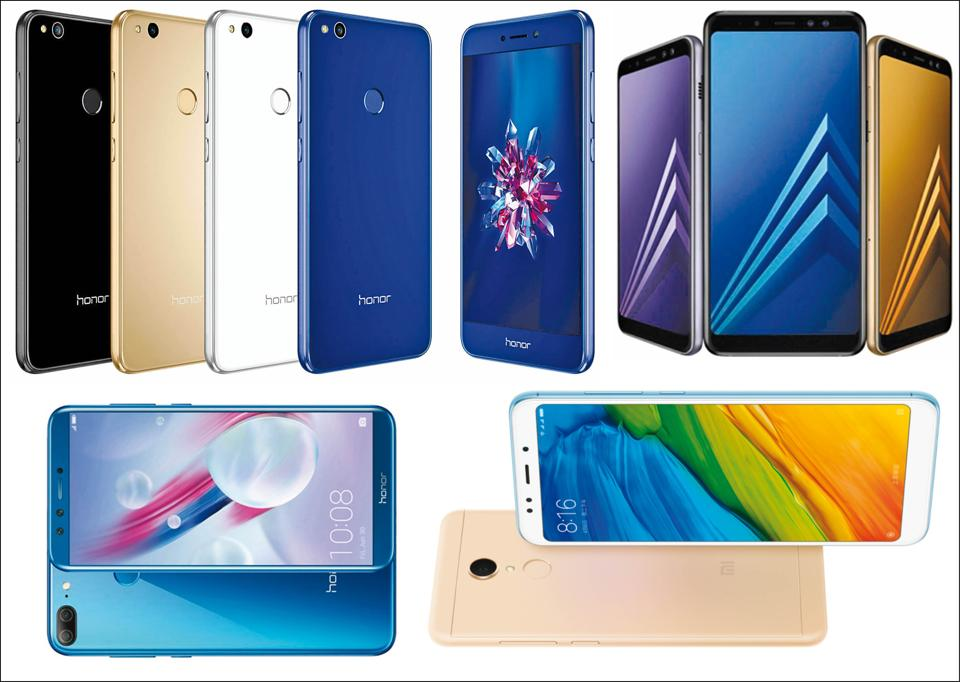mobile: (503, 391, 944, 554), (44, 403, 405, 577), (460, 5, 601, 377)
